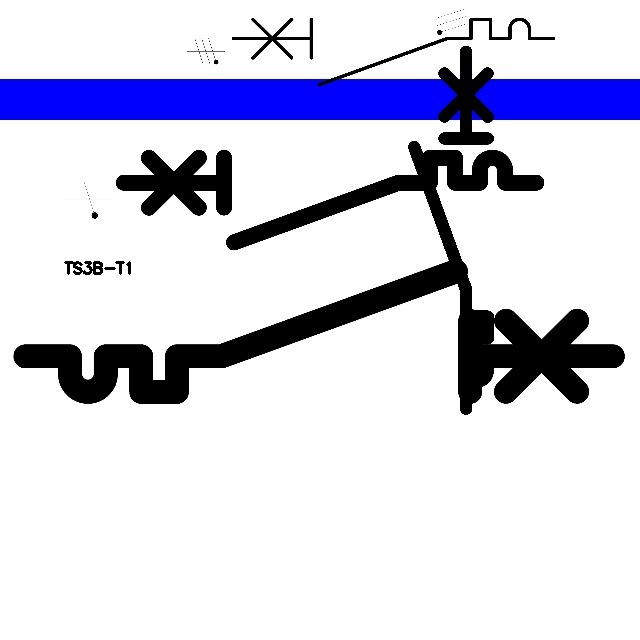interruptor_termomagnetico: (10, 256, 628, 407), (113, 147, 547, 253), (405, 42, 497, 417), (225, 11, 562, 93)
